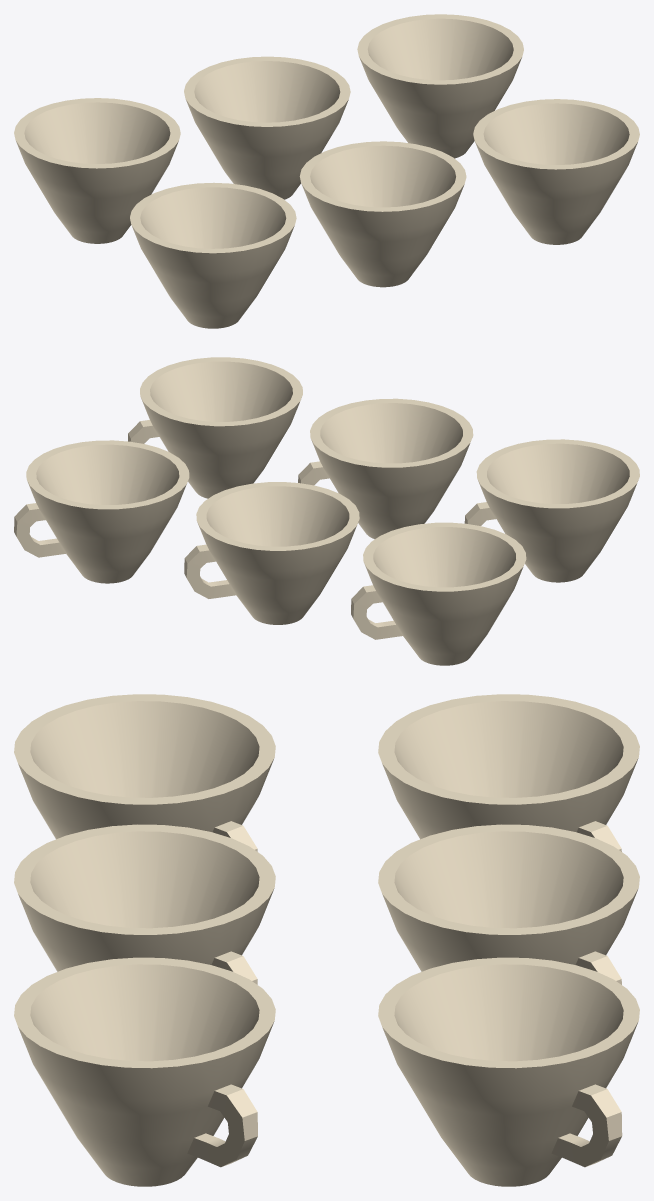
File: 4ozYuva.fbx
3 renders of one model, top to bottom at view 1: azimuth 30°, elevation 25°; view 2: azimuth 150°, elevation 25°; view 3: azimuth 270°, elevation 25°, orthographic. The views are drawn at different scales.
Visible parts, largest first — view 1: 4ozYuva.002; view 2: 4ozYuva.002; view 3: 4ozYuva.002.
Part boxes in pixels (box(x1,y1,x2,y2)): 4ozYuva.002: box(14, 14, 639, 328); 4ozYuva.002: box(14, 357, 639, 665); 4ozYuva.002: box(14, 694, 639, 1186).
Size of the model in its own units: 78.4 by 15.26 by 55.46.
